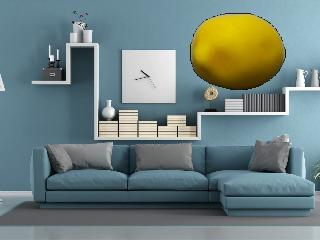lemon: (191, 13, 285, 92)
